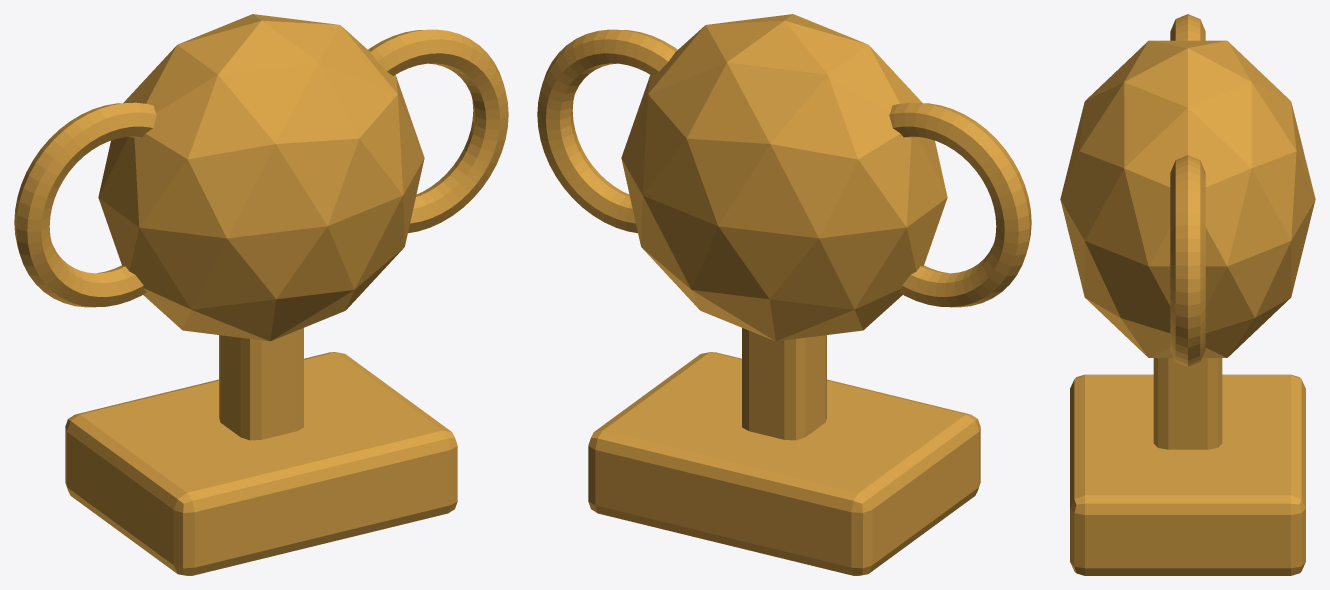
Rendered from party-trophy.glb.
The picture shows the model from 3 angles, left to right: view 1: azimuth 30°, elevation 25°; view 2: azimuth 150°, elevation 25°; view 3: azimuth 270°, elevation 25°; orthographic projection. The views are drawn at different scales.
Visible parts, largest first — view 1: WEB_Trophy cup, WEB_Trophy base, WEB_Trophy handle, WEB_Trophy handle.001, WEB_Trophy stem; view 2: WEB_Trophy cup, WEB_Trophy base, WEB_Trophy handle, WEB_Trophy handle.001, WEB_Trophy stem; view 3: WEB_Trophy cup, WEB_Trophy base, WEB_Trophy handle.001, WEB_Trophy stem, WEB_Trophy handle.
Part boxes in pixels (x1,y1,x2,y2): WEB_Trophy cup: (98,14,424,341); WEB_Trophy base: (65,352,457,575); WEB_Trophy handle: (14,102,156,307); WEB_Trophy handle.001: (368,29,508,233); WEB_Trophy stem: (219,328,303,440); WEB_Trophy cup: (621,14,947,341); WEB_Trophy base: (588,352,980,575); WEB_Trophy handle: (889,102,1031,307); WEB_Trophy handle.001: (537,29,677,233); WEB_Trophy stem: (742,328,826,440); WEB_Trophy cup: (1060,40,1315,357); WEB_Trophy base: (1070,374,1305,575); WEB_Trophy handle.001: (1170,155,1205,366); WEB_Trophy stem: (1153,358,1222,449); WEB_Trophy handle: (1170,14,1205,40).
Bounding box in the file's own units: 0.556 × 0.525 × 0.26.
